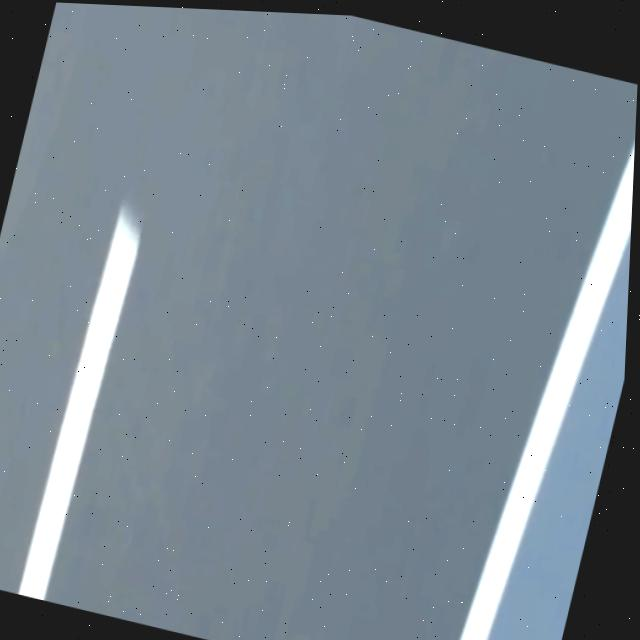center: (18, 205, 141, 601)
left: (461, 146, 635, 640)
